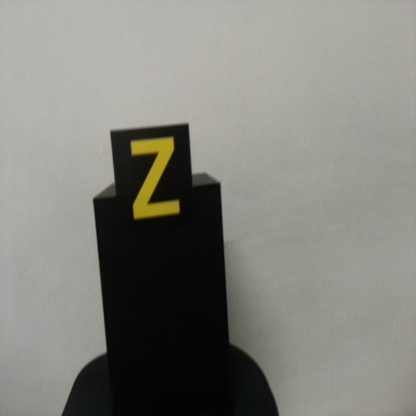id_15: (109, 129, 192, 233)
